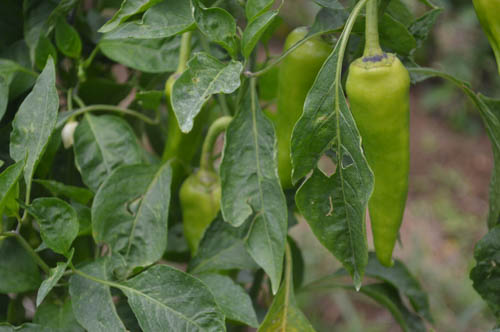ChiliPepper: (346, 60, 408, 271), (275, 27, 333, 184), (160, 77, 209, 185), (179, 177, 229, 253)
